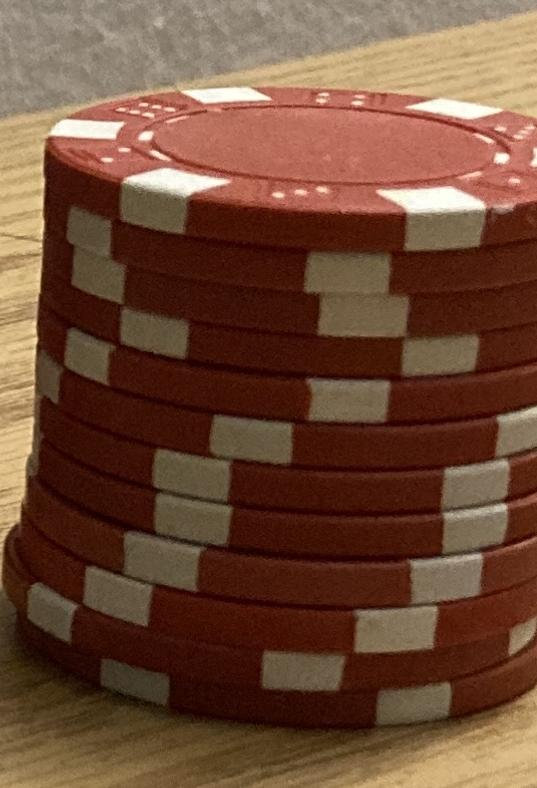Chip: (1, 1, 537, 788)
